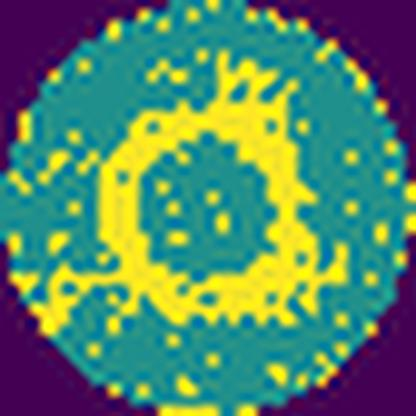Donut: (94, 50, 320, 326)
